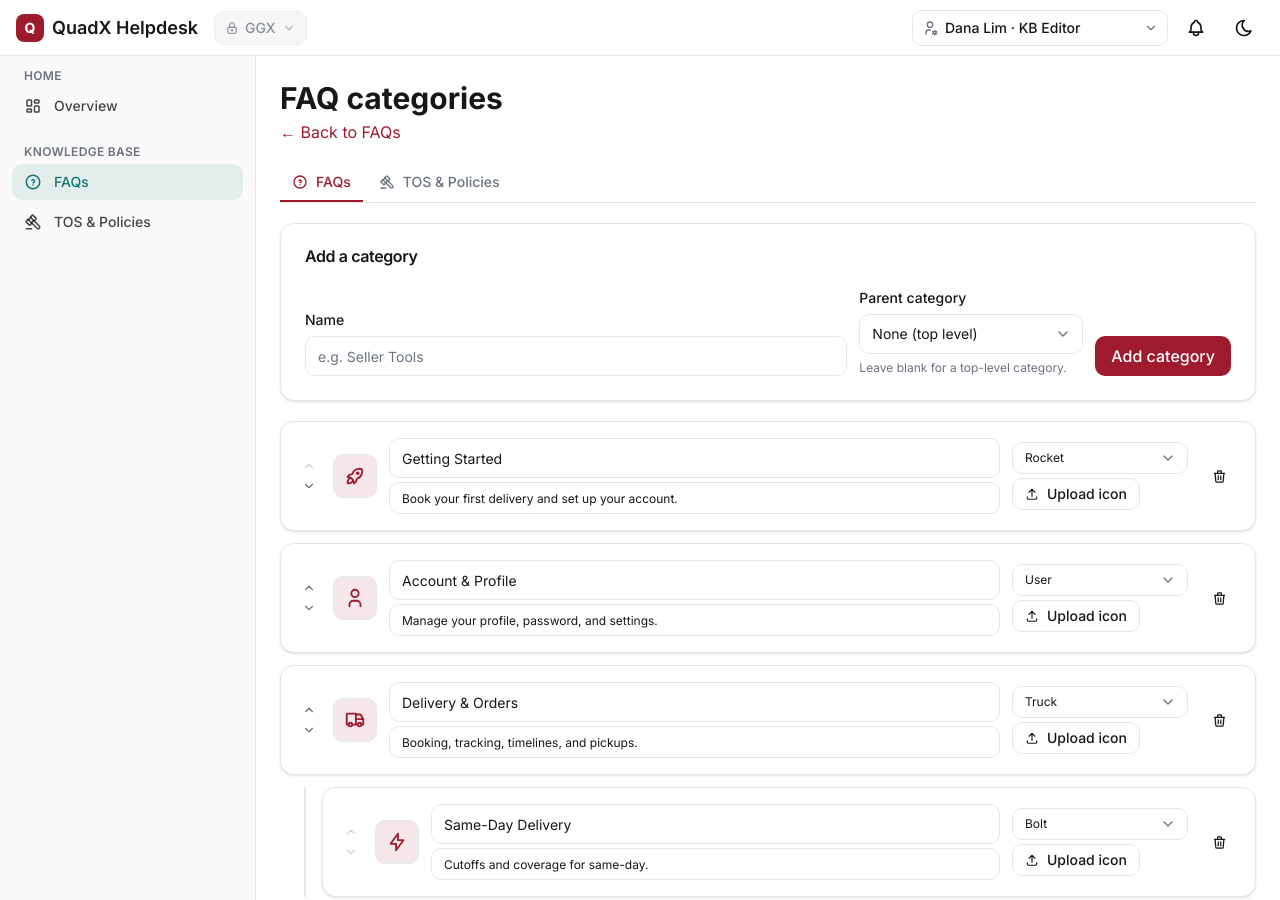
FAQ category administration › adds a category
This screenshot has width=1280, height=900.
Expected: the heading "FAQ categories" is shown, [280, 80, 503, 116]
Type "Insurance" into the field labelled "Name" at (576, 356), box [305, 336, 847, 376]
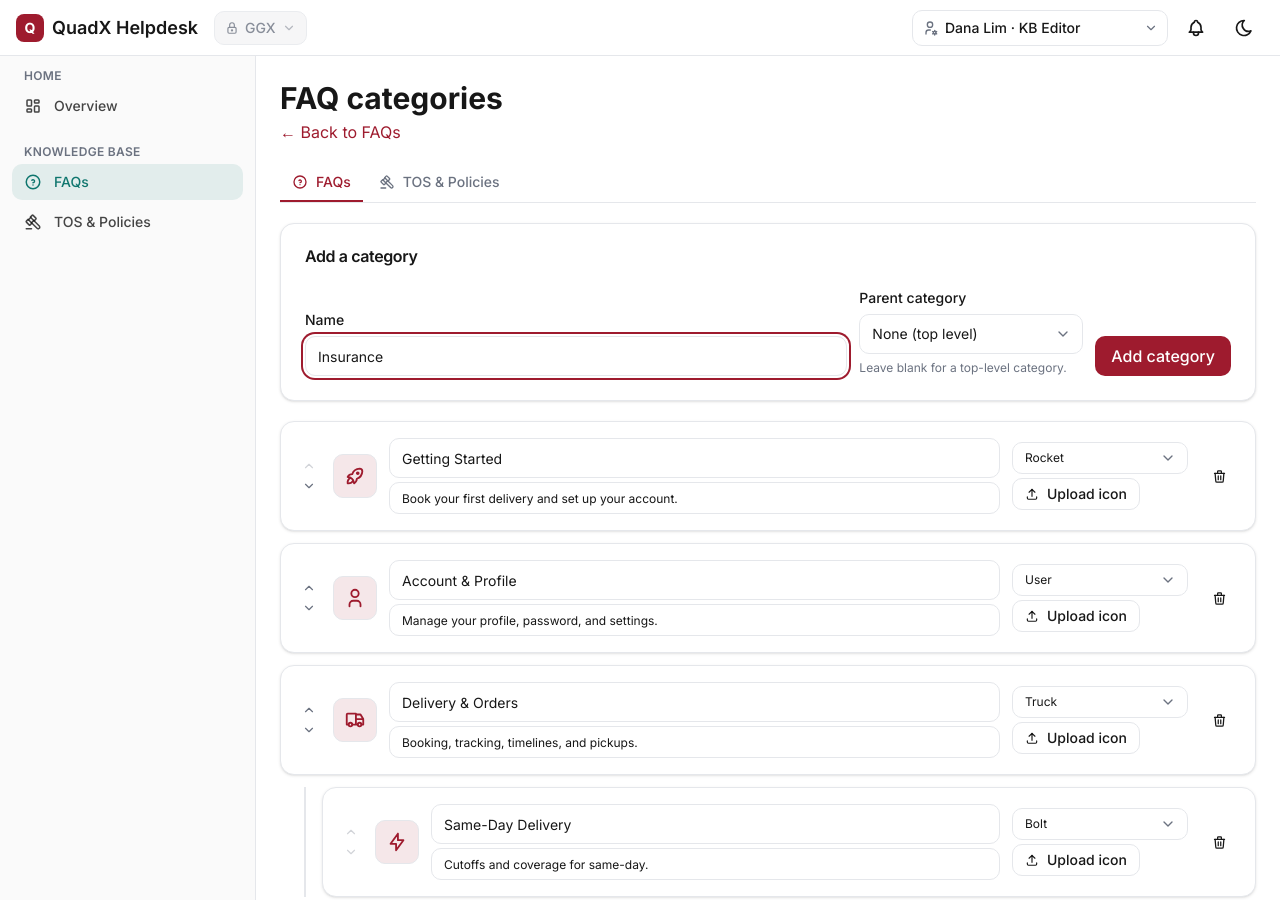
Click the button "Add category" at (1163, 356), box [1095, 336, 1231, 376]
(page scrolled)
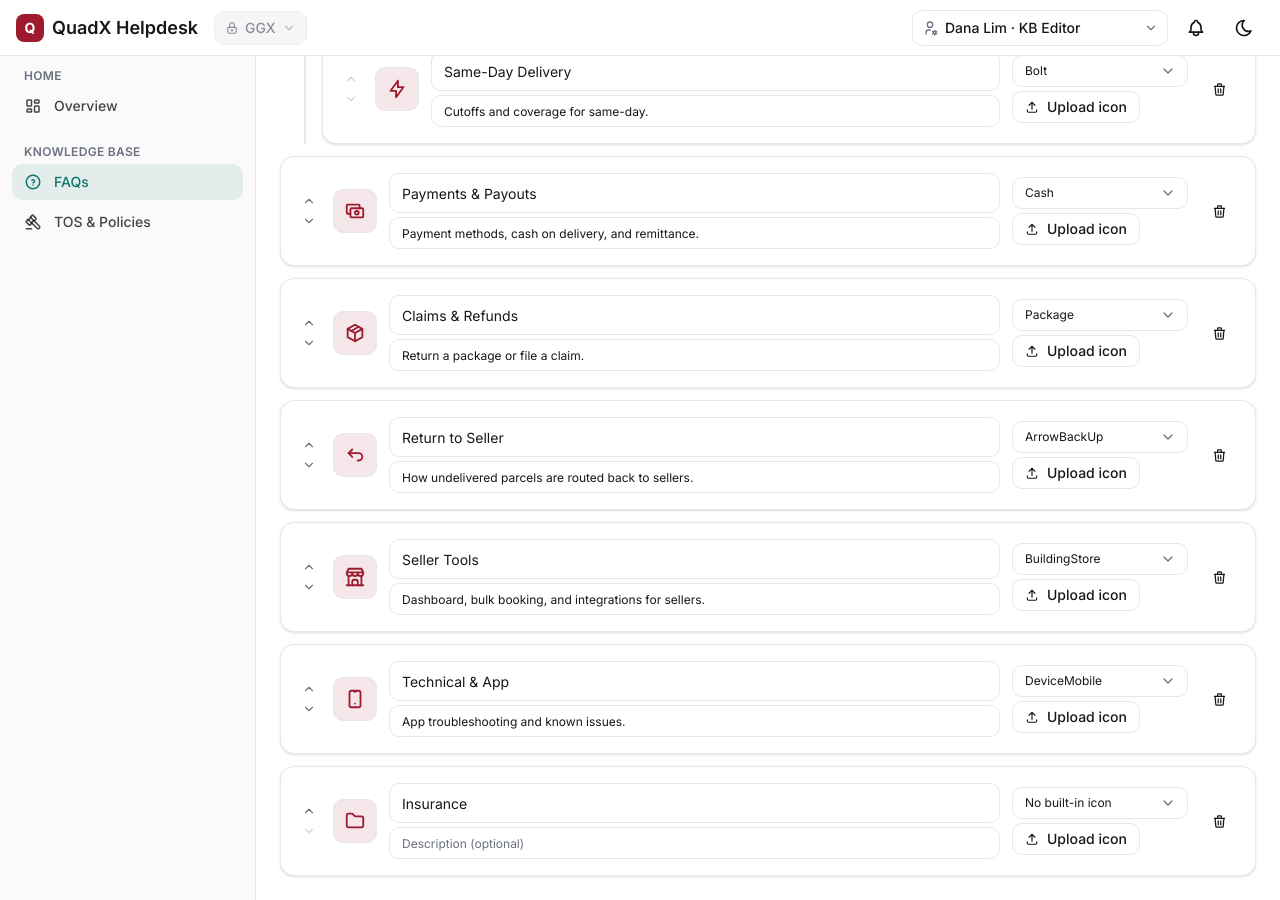
Expected: the field named "name for Insurance" is shown, [389, 783, 1000, 823]
